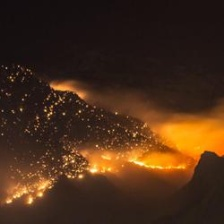fire: (5, 135, 186, 211)
